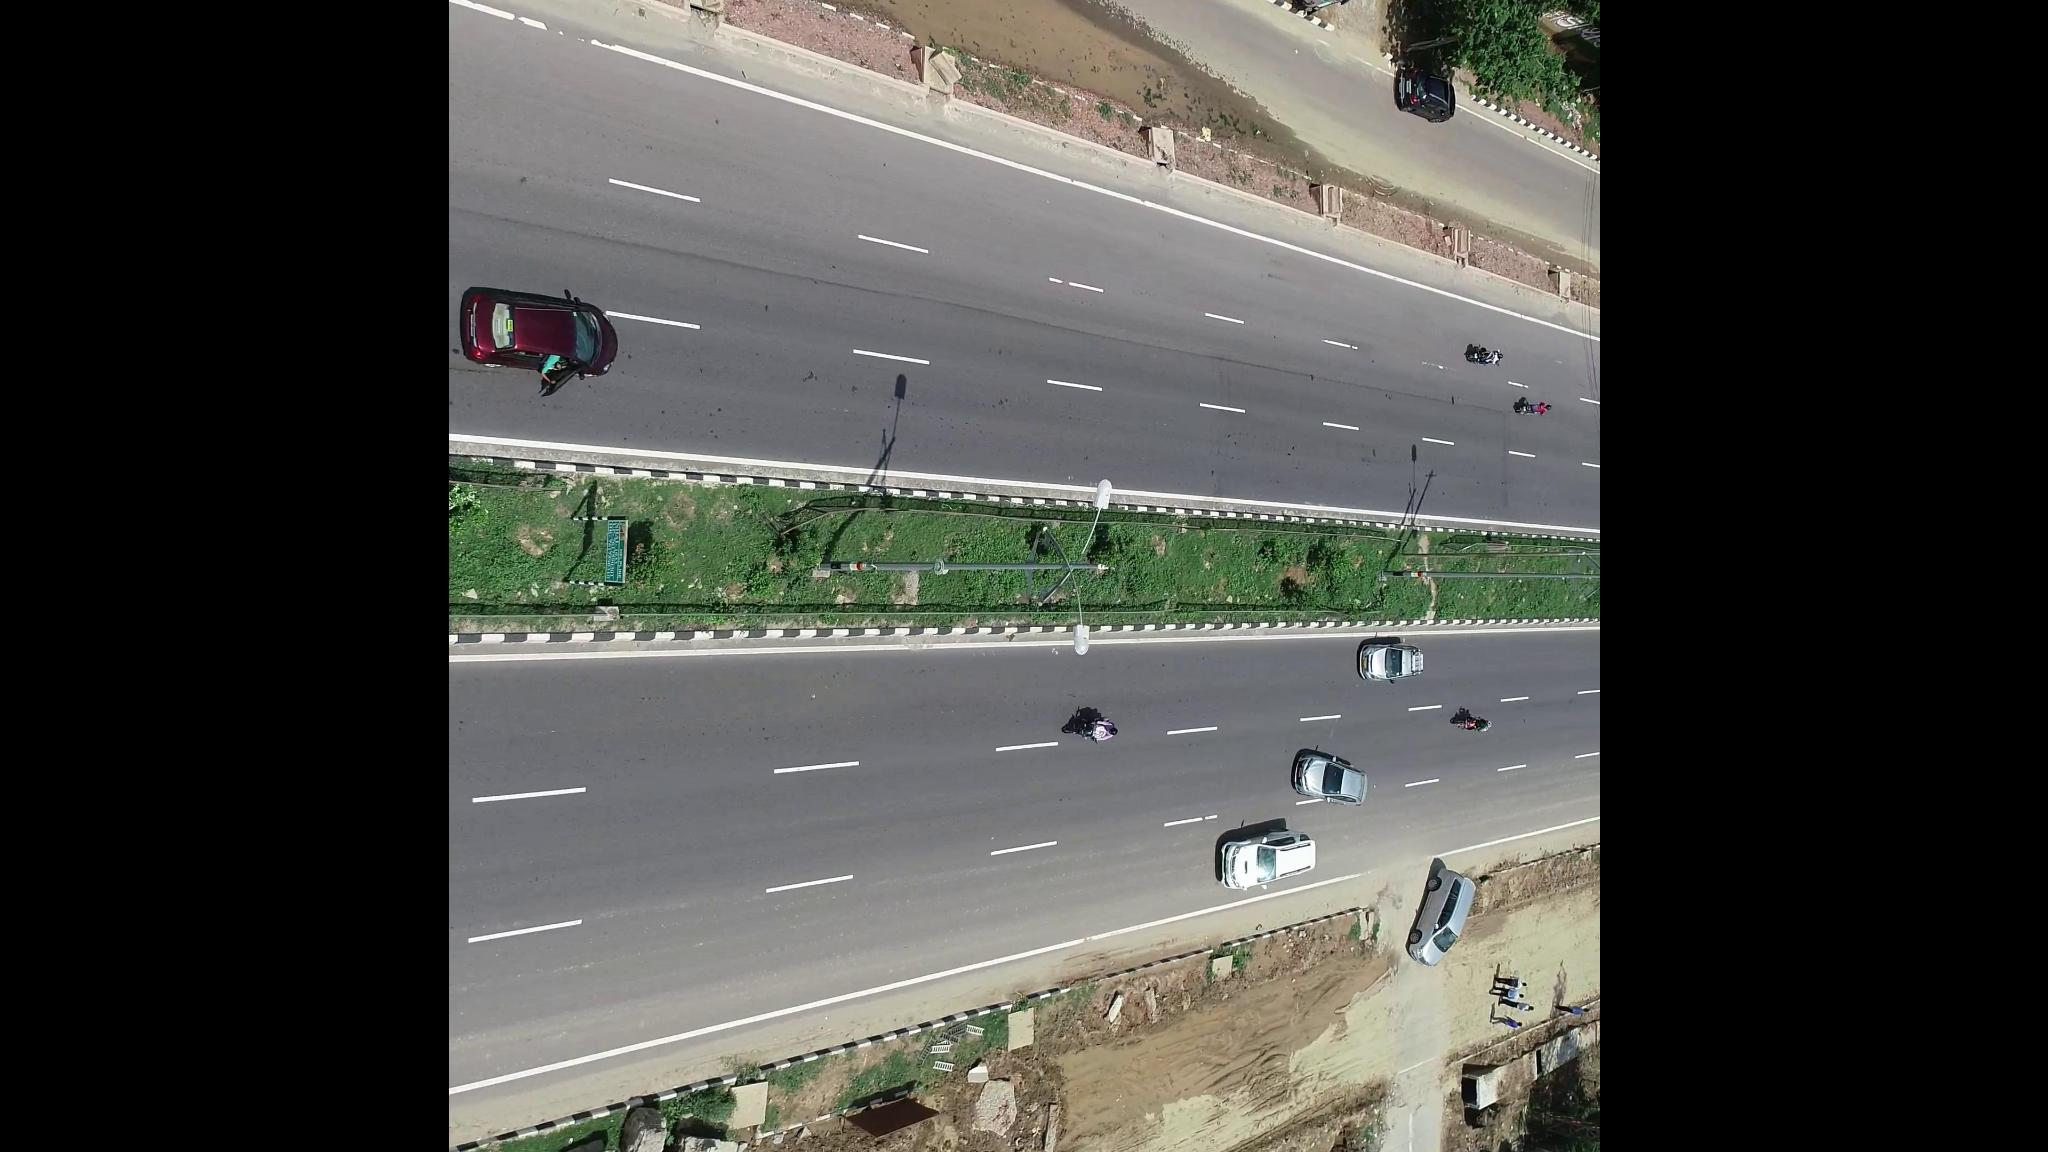Waterlogging: (703, 1, 1107, 73)
